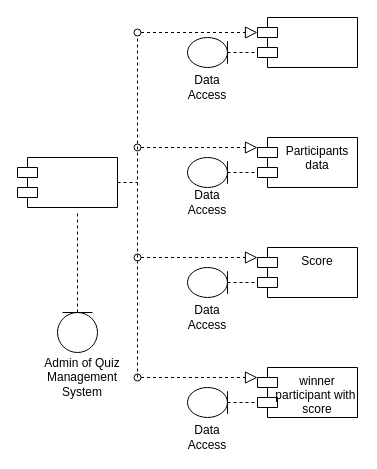
This 377x469 diagram has some shape labels left out. The shapes that lost their labels are listed below. From the top down, each one's centre as x and y in pixels, then its label:
At [307,42]: "Quiz Questions".
At [67,182]: "Quiz Management System".
